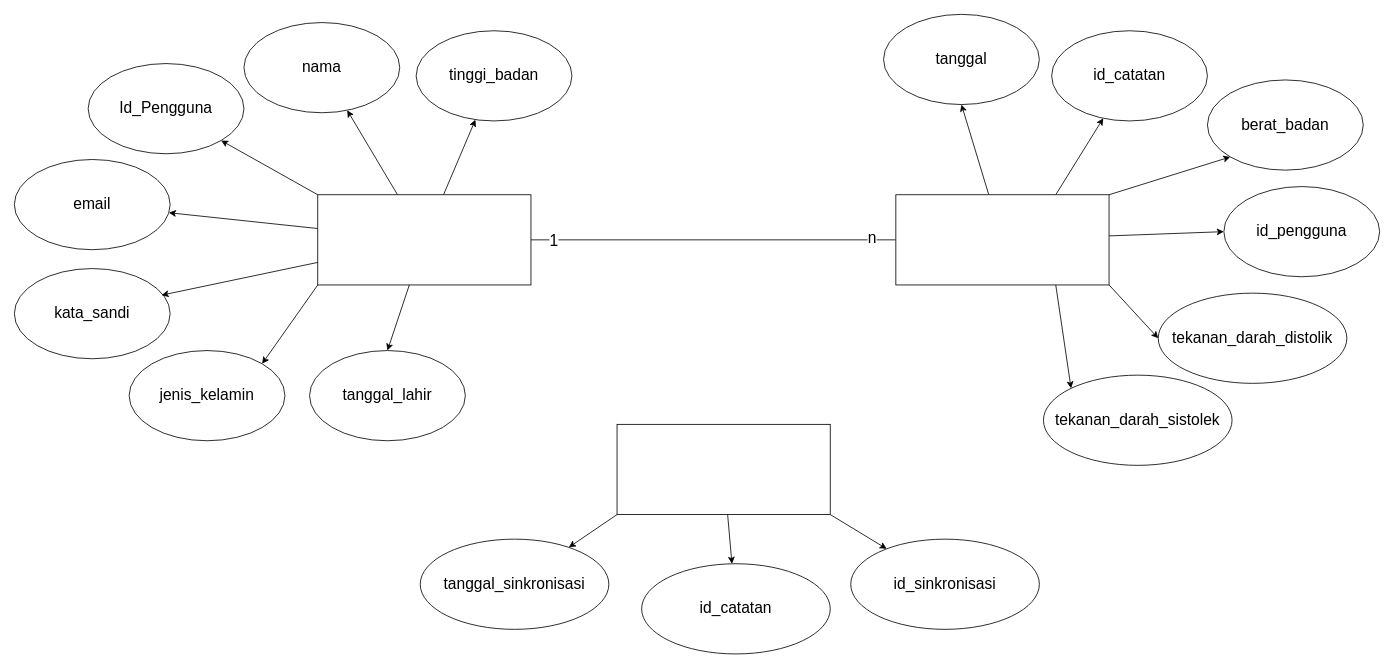
This 1394x668 diagram has some shape labels left out. Each missing label, with the centre of its shape:
"Catatan_Kesehatan" goes at point (1002, 239).
"Pengguna" goes at point (424, 239).
"Sinkronisasi" goes at point (723, 469).
